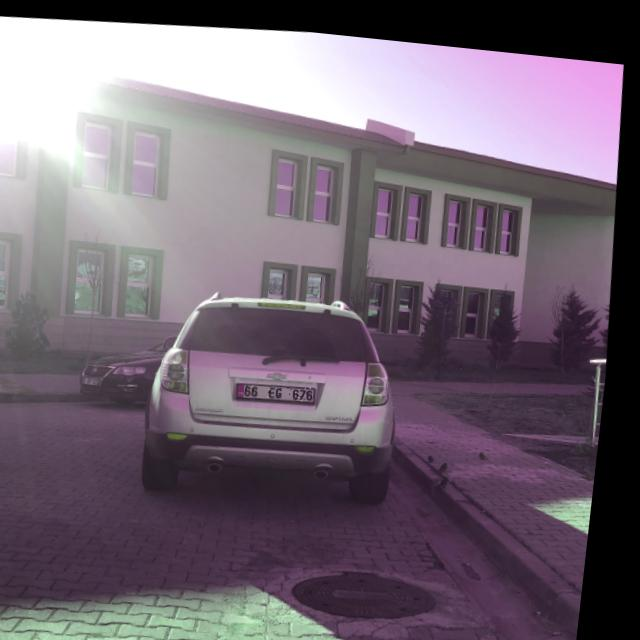license_plate: (244, 374, 324, 399)
